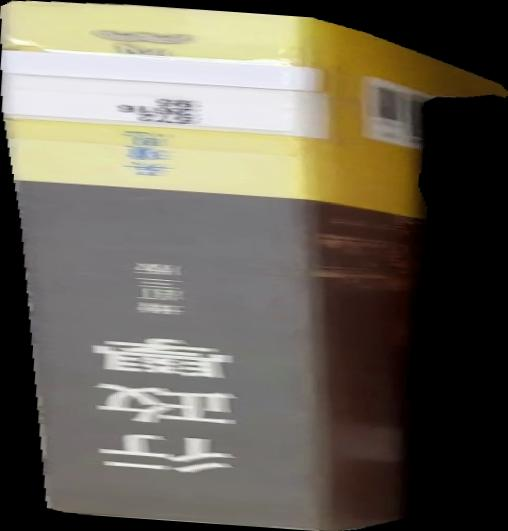reverse: (1, 1, 508, 531)
